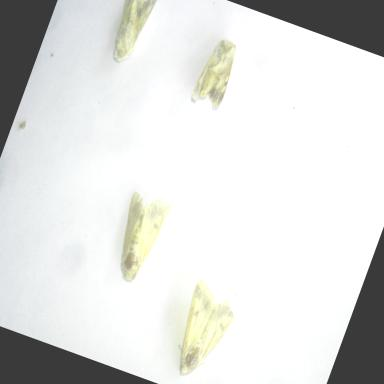abw: (160, 272, 247, 384), (98, 181, 178, 294), (184, 30, 246, 118), (96, 0, 168, 74)
